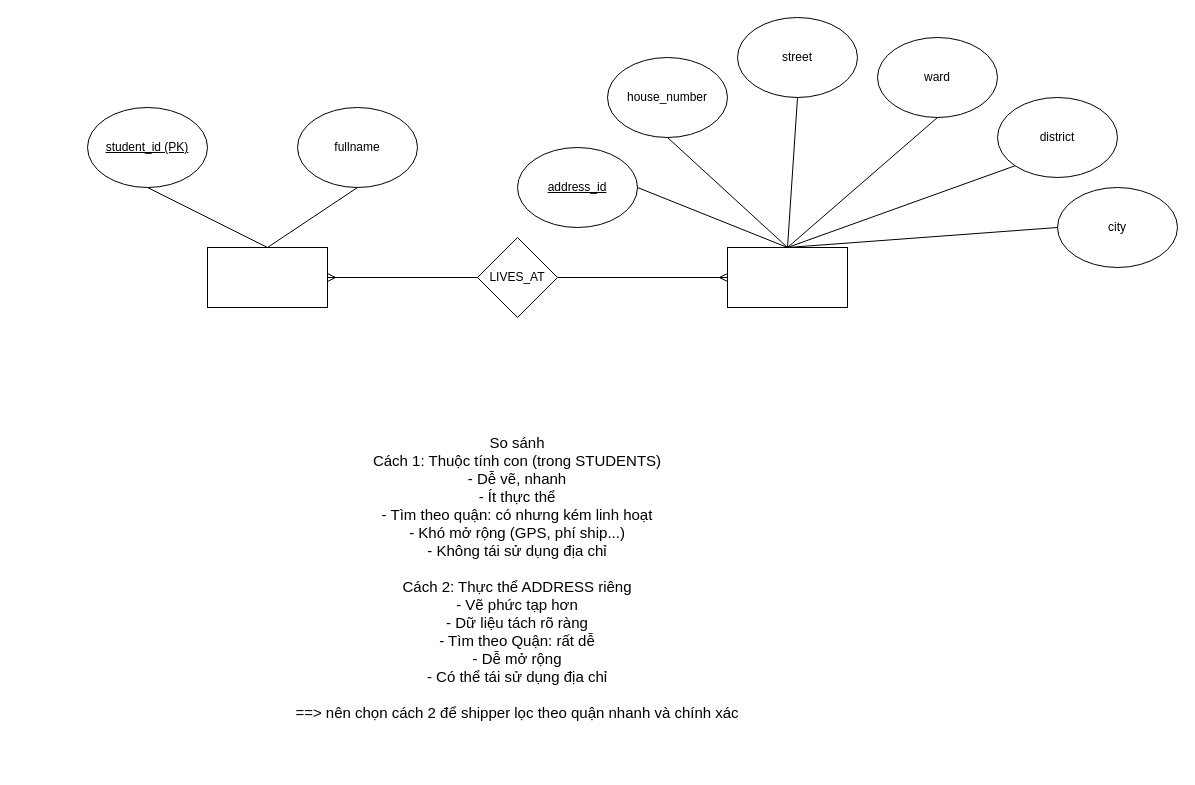
The diagram is 1195 pixels wide and 785 high, and some of its shapes have lost their labels. The shapes that lost their labels are listed below. From the top down, each one's box as (x1, y1, x2, y2) in pixels, then its label:
(206, 246, 328, 308): STUDENTS
(726, 246, 848, 308): ADDRESS
